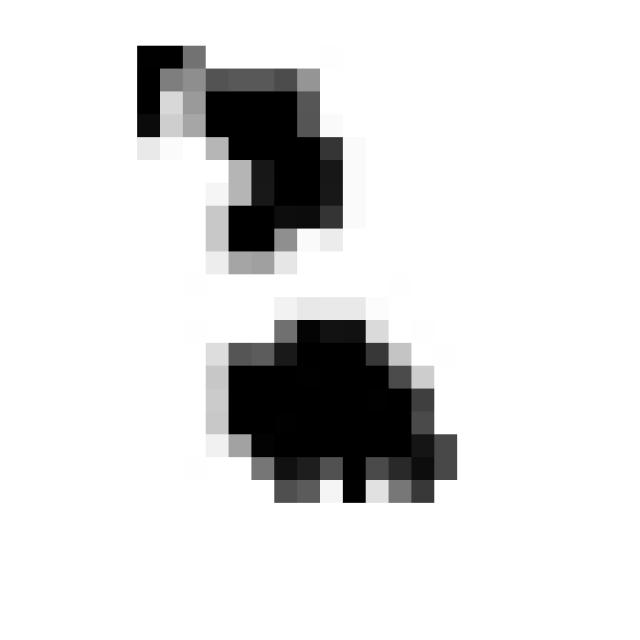0 -zero-: (119, 28, 468, 524)
